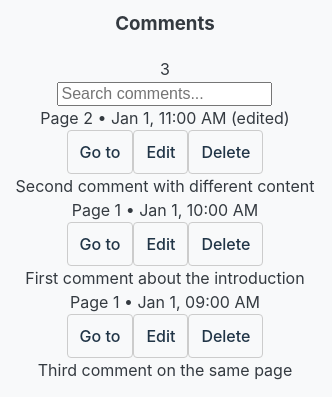
CommentList › Search Functionality › filters comments based on search term
The image size is (332, 397).
Type "introduction" into the field with placeholder "Search comments..." at (165, 94), box [58, 82, 272, 106]
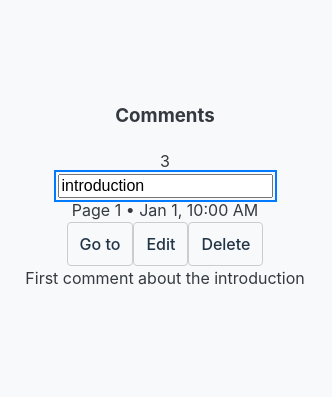
Expected: the text "First comment about the introduction" is shown, [25, 266, 305, 290]
Expected: the text "Second comment with different content" is gone
Expected: the text "Third comment on the same page" is gone
